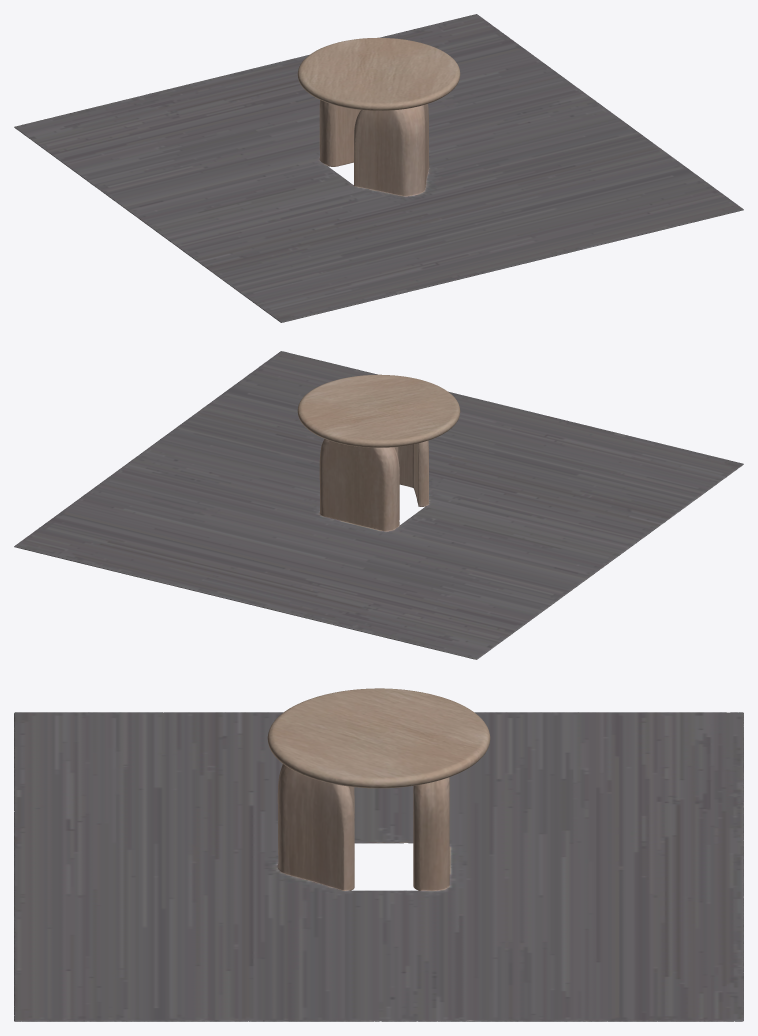
The picture shows the model from 3 angles, top to bottom: view 1: azimuth 30°, elevation 25°; view 2: azimuth 150°, elevation 25°; view 3: azimuth 270°, elevation 25°; orthographic projection. The views are drawn at different scales.
Visible parts, largest first — view 1: world; view 2: world; view 3: world.
Boxes of the visible parts, x1,y1,x2,y2 form: world: (14,14,743,322); world: (14,351,743,659); world: (14,688,743,1021).
Bounding box in the file's own units: 1 × 0.2033 × 1.
1 material, 1 textured.
